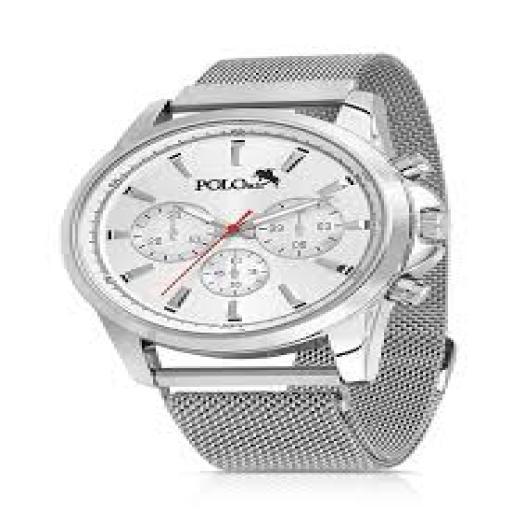KolSaati: (56, 41, 459, 479)
